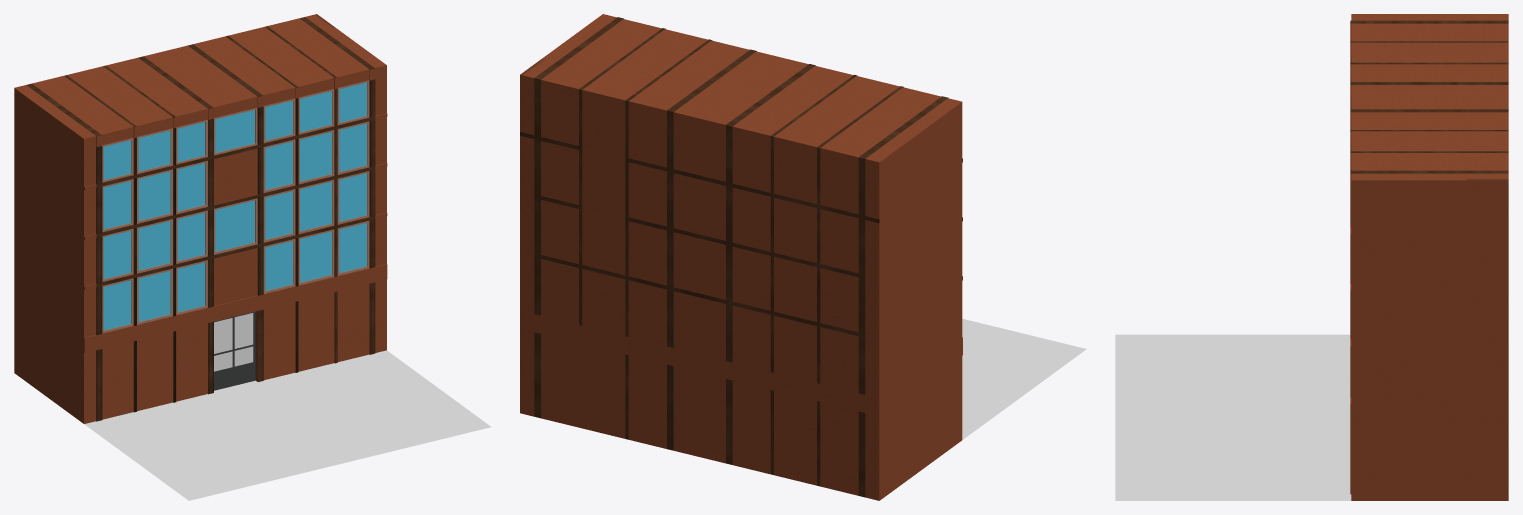
File: Offices.fbx
The picture shows the model from 3 angles, left to right: view 1: azimuth 30°, elevation 25°; view 2: azimuth 150°, elevation 25°; view 3: azimuth 270°, elevation 25°; orthographic projection. The views are drawn at different scales.
Parts seen in each view (by area): view 1: Cube.001, Ground, Cube.002; view 2: Cube.001, Ground; view 3: Cube.001, Ground.
Part boxes in pixels (x1,y1,x2,y2): Cube.001: [14, 14, 387, 423]; Ground: [84, 350, 491, 500]; Cube.002: [214, 311, 255, 390]; Cube.001: [520, 14, 962, 500]; Ground: [962, 318, 1086, 439]; Cube.001: [1350, 14, 1508, 500]; Ground: [1115, 334, 1351, 500].
Bounding box in the file's own units: 2000 × 1800 × 2000.
Materials: 6 (2 with a texture image).
